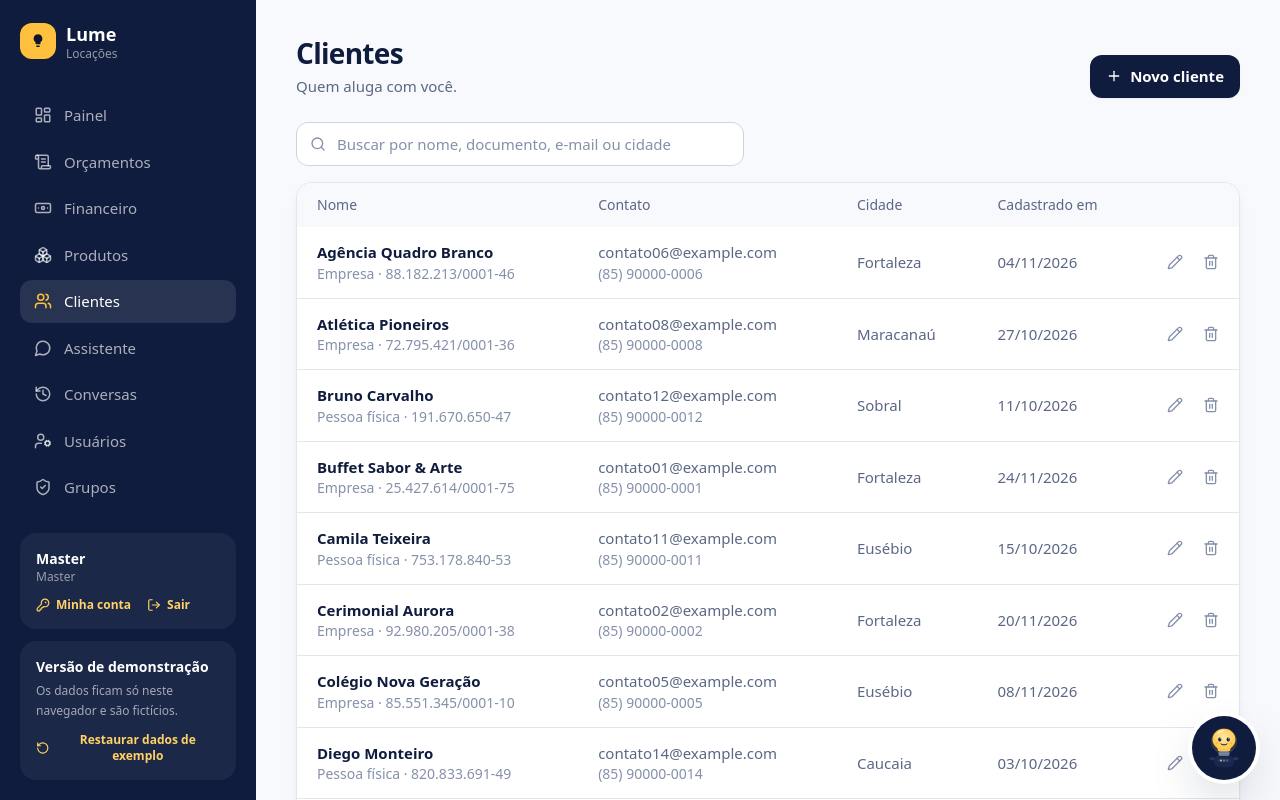
it: Clientes › edita um cliente
Click the button named "Editar Buffet Sabor & Arte".
click(1175, 477)  # box [1159, 461, 1191, 493]
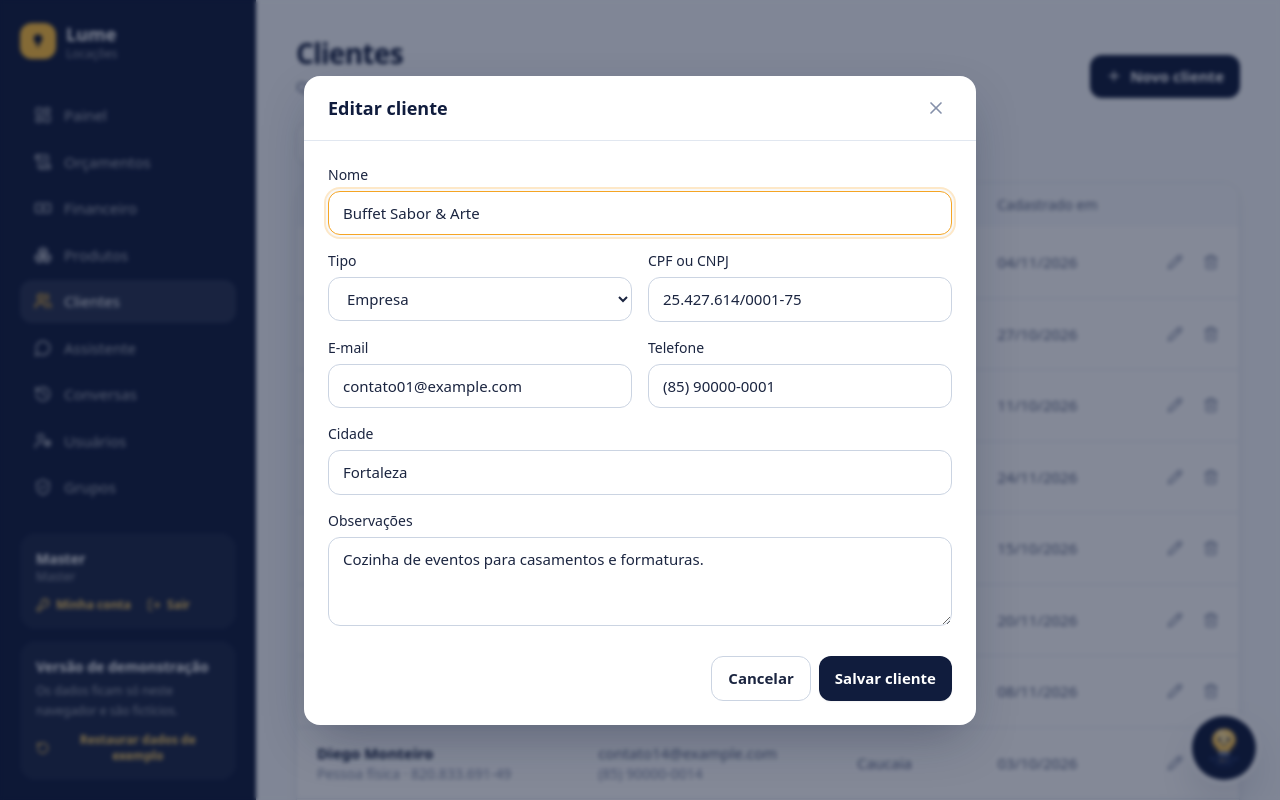
Replace the text in the field labelled "Nome" with "Buffet Renomeado" at {"x": 640, "y": 213}, box [328, 190, 952, 235]
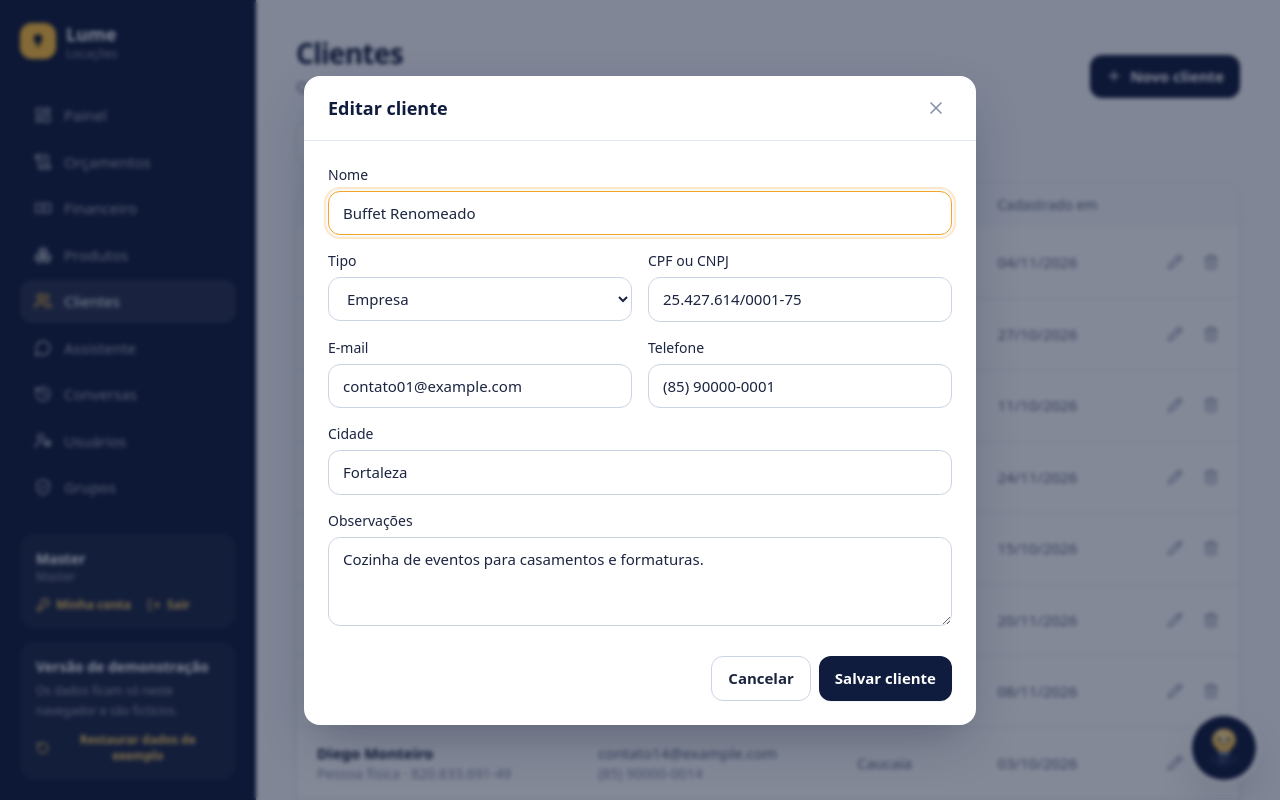
Click the button "Salvar cliente".
click(885, 678)  # box [819, 656, 952, 700]
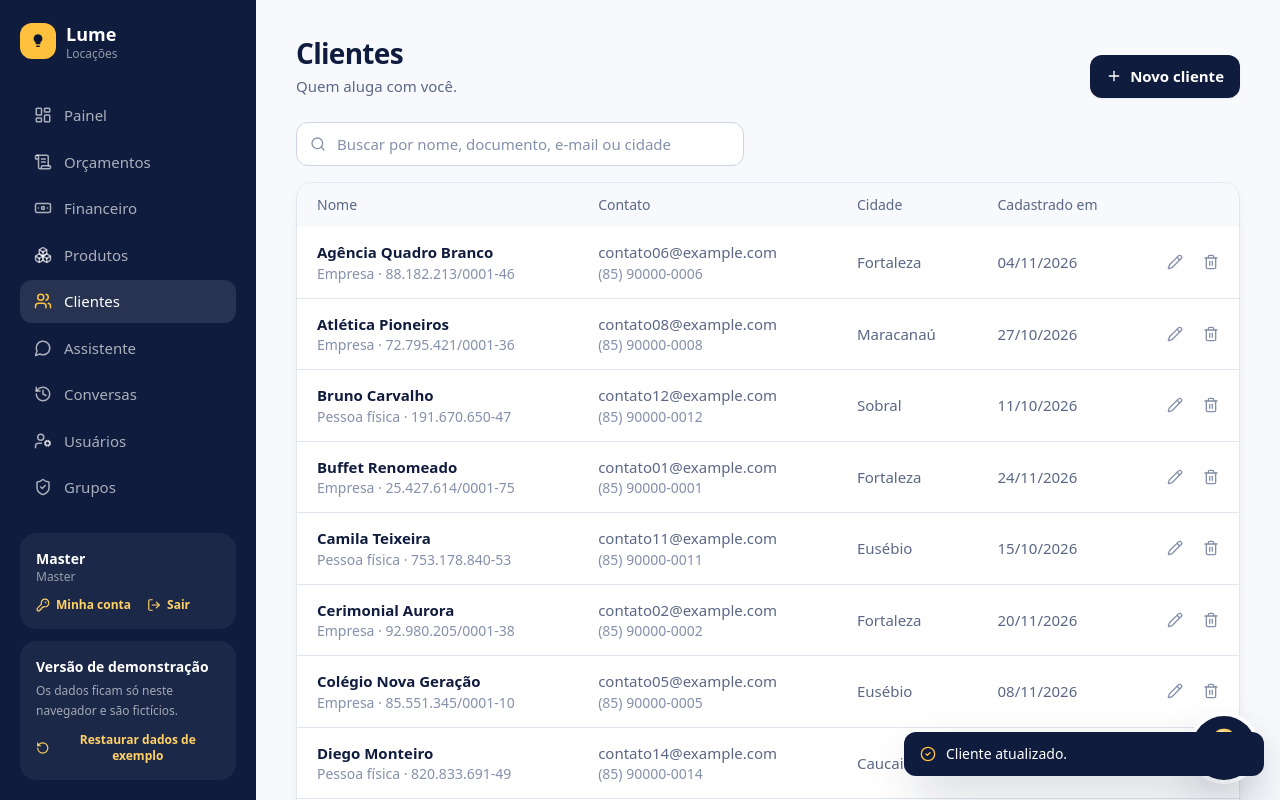
Now the text "Buffet Renomeado" is shown, box [317, 456, 457, 476]
